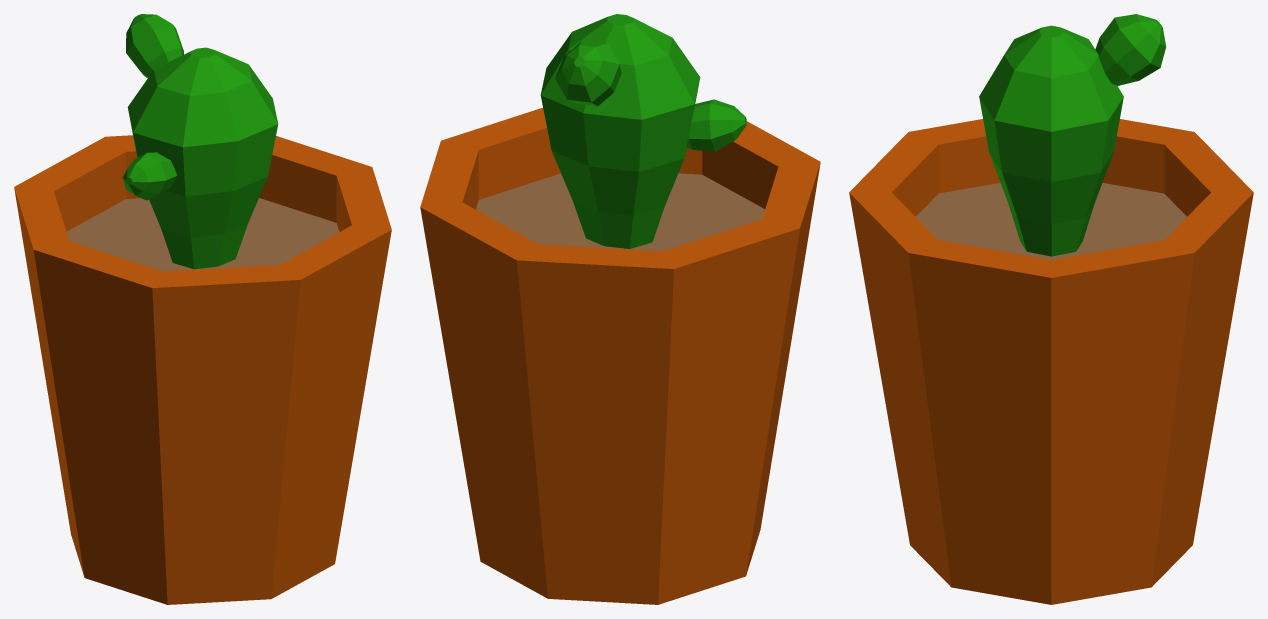
The model's file is cactus1.gltf.
The picture shows the model from 3 angles, left to right: view 1: azimuth 30°, elevation 25°; view 2: azimuth 150°, elevation 25°; view 3: azimuth 270°, elevation 25°; orthographic projection. The views are drawn at different scales.
Visible parts, largest first — view 1: Cube; view 2: Cube; view 3: Cube.
Boxes of the visible parts, box(x1,y1,x2,y2) form: Cube: box(14, 14, 391, 604); Cube: box(420, 14, 820, 604); Cube: box(849, 14, 1253, 604).
Size of the model in its own units: 2.08 by 2.96 by 2.08.
Materials: 1 (1 with a texture image).
